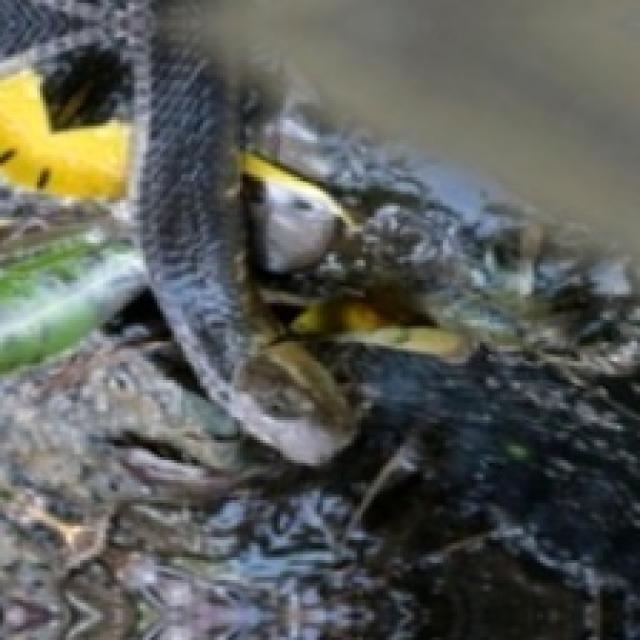king cobra: (0, 0, 354, 463)
